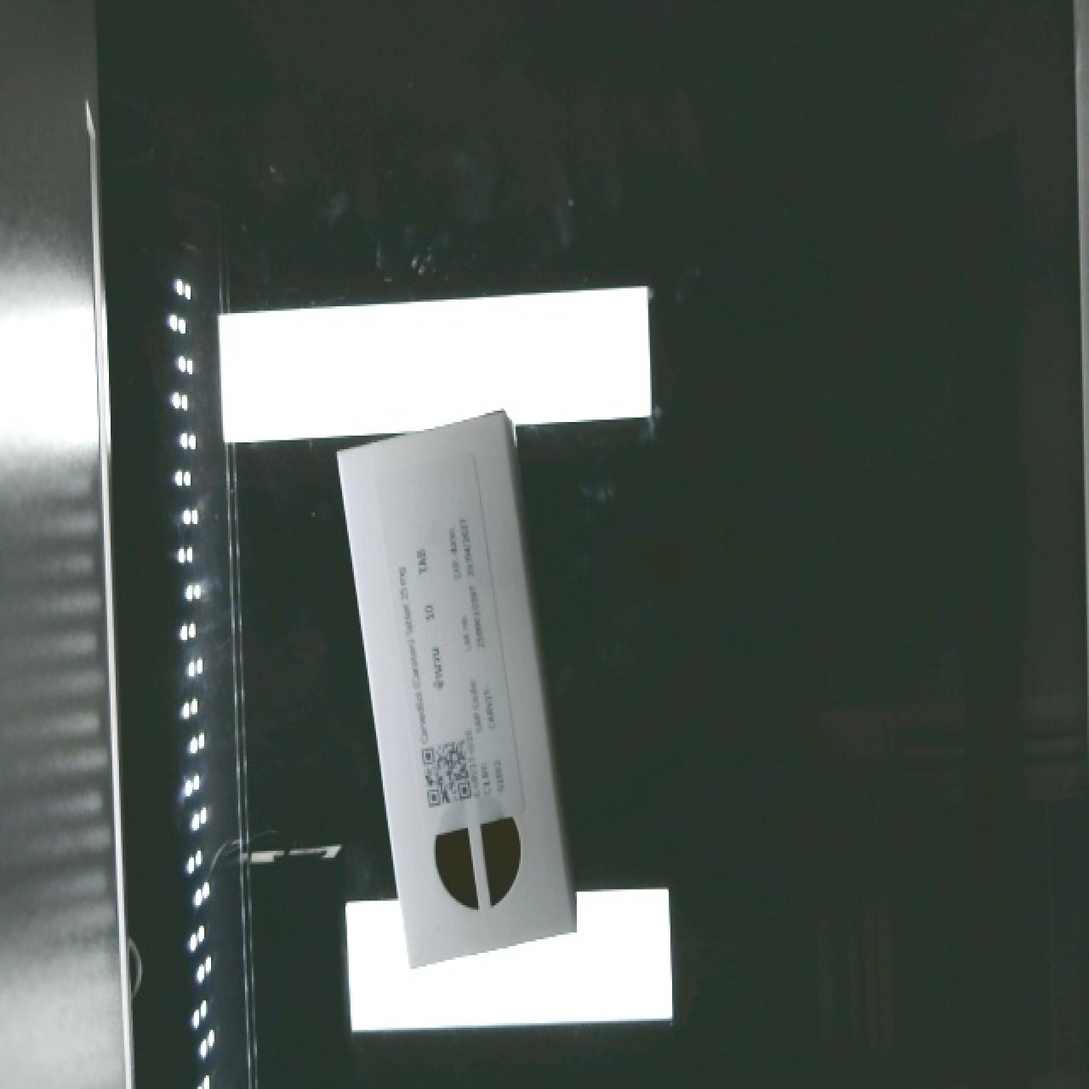qr_code: (407, 726, 486, 815)
